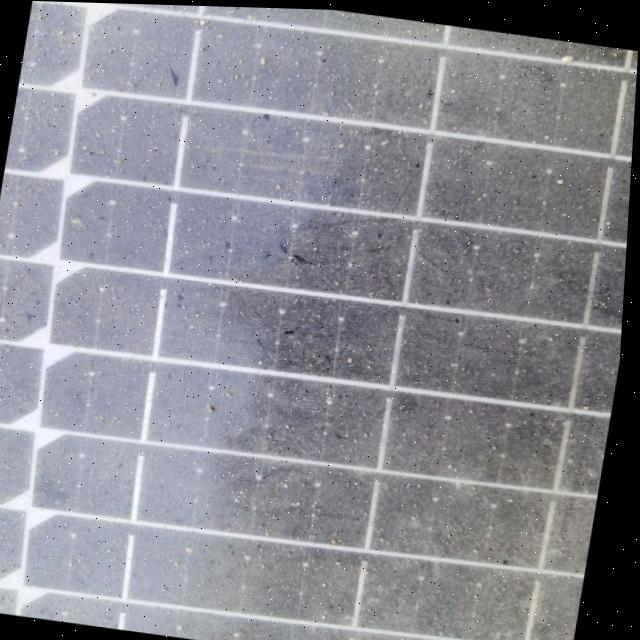Surface Contaminant: (0, 1, 639, 640)
